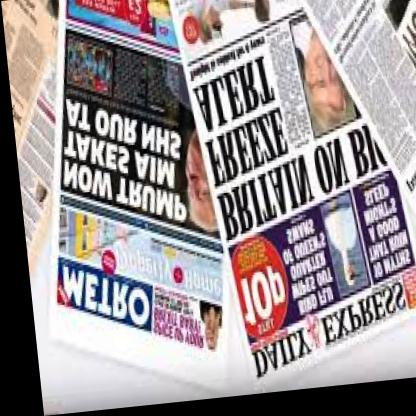Paper: (4, 0, 416, 404)
